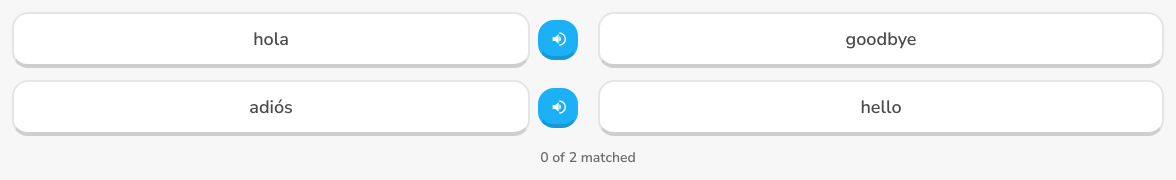
Test: MatchPairsExercise › the client follows the server's matched list, not its own
The width and height of the screenshot is (1176, 180).
Click the button "hola".
click(271, 40)  # box [12,12,530,68]
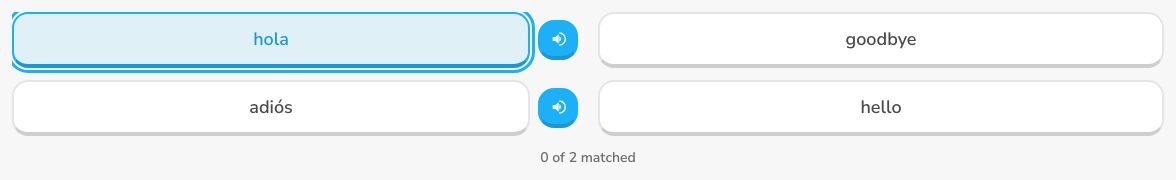
Click the button "hello".
click(881, 108)  # box [598,80,1164,136]
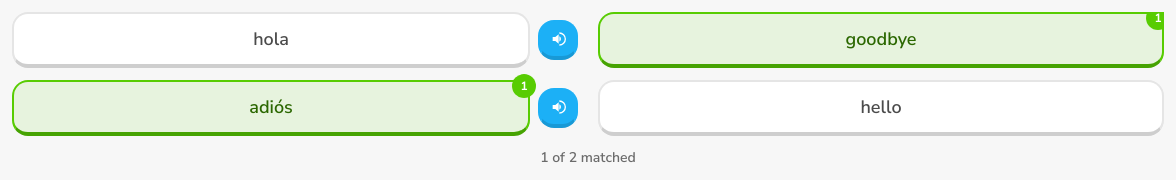
Check: the button with aria-label "adiós, matched" is shown, box [12,80,530,136]
